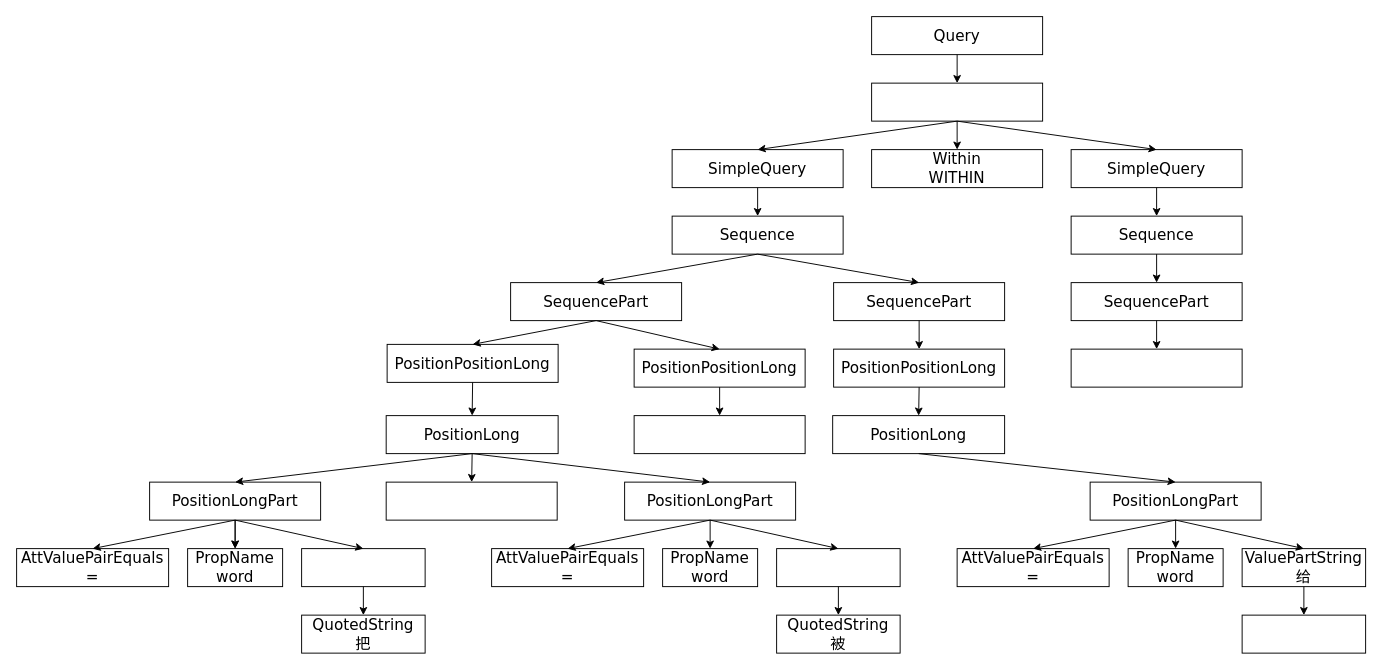
Some shapes in this 1382 by 670 pixel diagram are drawn without their labels. The centre of each missing label's shape, as x and y in pixels:
"ComplexQuery" goes at point 957,101.
"Or |" goes at point 471,500.
"QuotedString 给" goes at point 1303,633.
"RepetitionMinMax {0，10}" goes at point 719,434.
"Tag </S>" goes at point 1156,367.
"ValuePartString 把" goes at point 363,567.
"ValuePartString 被" goes at point 838,567.
